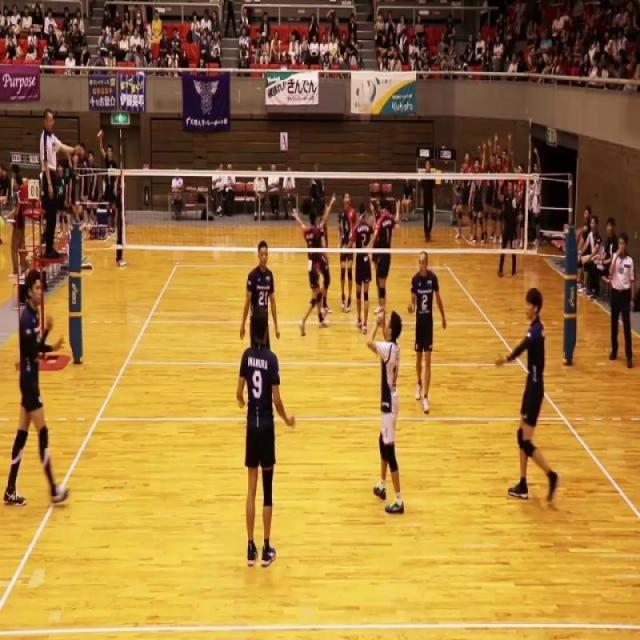volleyball: (359, 91, 372, 122)
